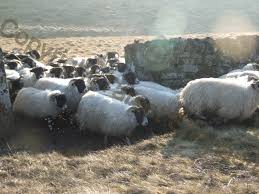sheep: (181, 70, 258, 128), (73, 89, 148, 148), (14, 83, 68, 133), (36, 74, 87, 108), (105, 89, 152, 113), (19, 64, 46, 89), (118, 70, 142, 86), (86, 63, 103, 76), (20, 55, 37, 68), (25, 48, 41, 60)
